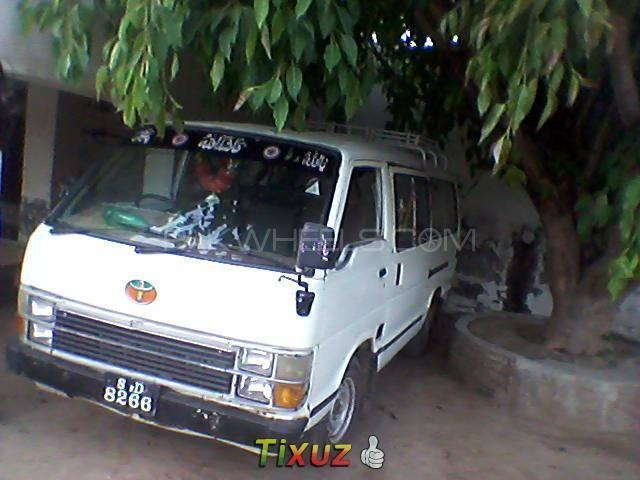Van: (14, 116, 467, 461)
